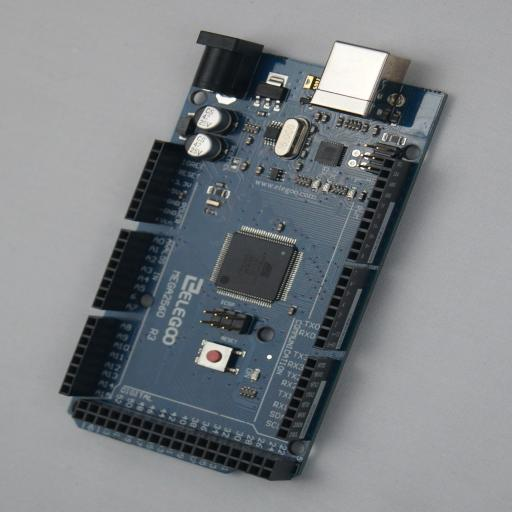Arduino Mega 2560 -Blue-: (59, 30, 449, 482)
